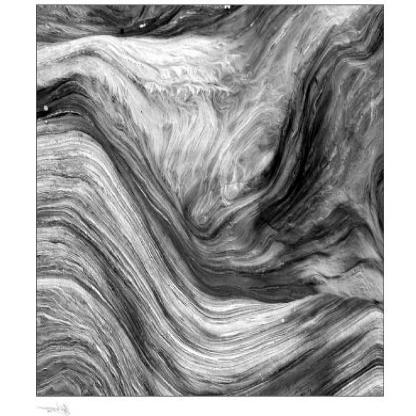Sedimentary_Sandstone: (38, 3, 382, 398)
